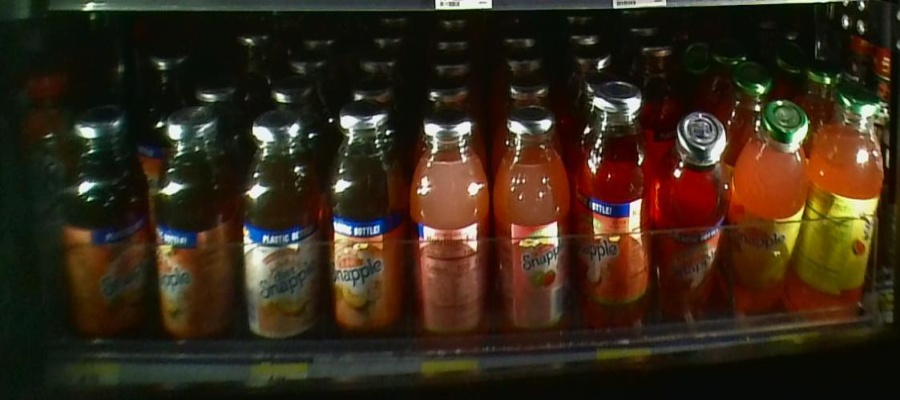bottle: (59, 96, 147, 343), (150, 105, 236, 351), (240, 101, 325, 349), (572, 83, 652, 342), (326, 108, 408, 349), (410, 110, 490, 348), (656, 104, 733, 339), (814, 70, 882, 329), (737, 96, 809, 333), (496, 111, 569, 342)
